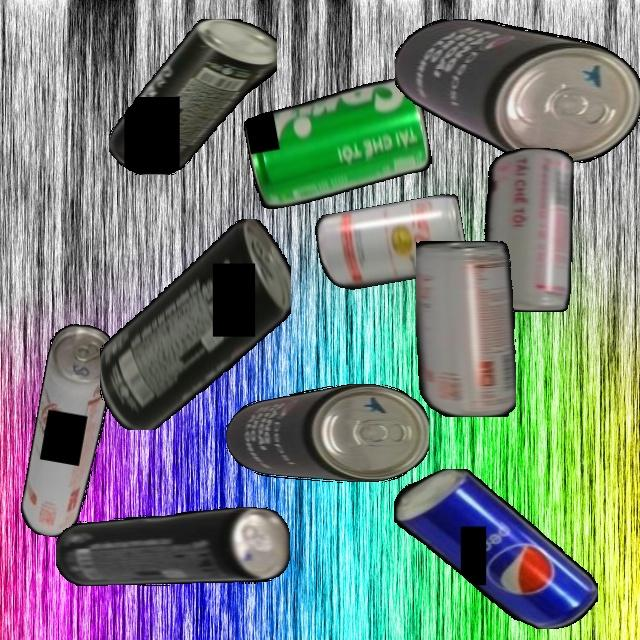debris: (99, 218, 291, 430), (394, 19, 640, 163), (393, 469, 598, 629), (241, 75, 435, 211), (109, 18, 277, 175), (17, 320, 121, 542), (225, 384, 429, 483), (55, 507, 290, 586), (415, 241, 516, 417), (313, 192, 470, 294), (483, 148, 573, 312)
